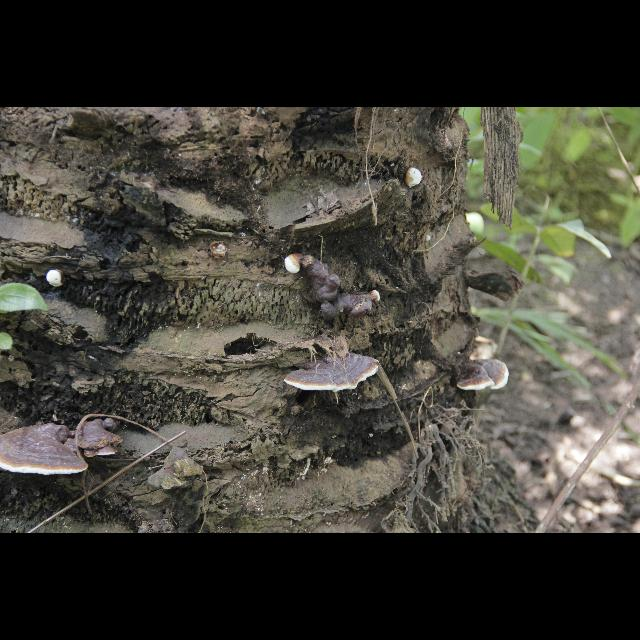ganoderma: (303, 256, 374, 326), (1, 424, 89, 477), (285, 352, 381, 395), (82, 419, 124, 460), (458, 360, 511, 392)
primordium: (405, 168, 423, 188), (47, 270, 67, 288), (286, 255, 303, 275), (371, 291, 381, 303), (427, 237, 432, 244)
